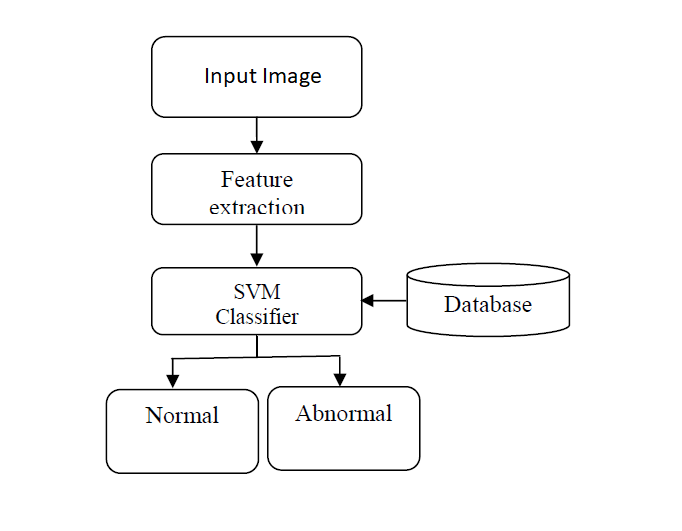arrow: (163, 333, 262, 388), (252, 332, 346, 388), (359, 292, 407, 311), (249, 225, 265, 271), (249, 116, 266, 154)
process: (149, 34, 366, 121), (147, 150, 366, 227), (148, 264, 365, 338), (103, 387, 262, 477), (264, 386, 424, 475), (403, 261, 576, 340)
text: (208, 169, 306, 217), (214, 282, 300, 326), (202, 65, 324, 91), (290, 402, 398, 423), (439, 293, 536, 314), (142, 404, 222, 427)
